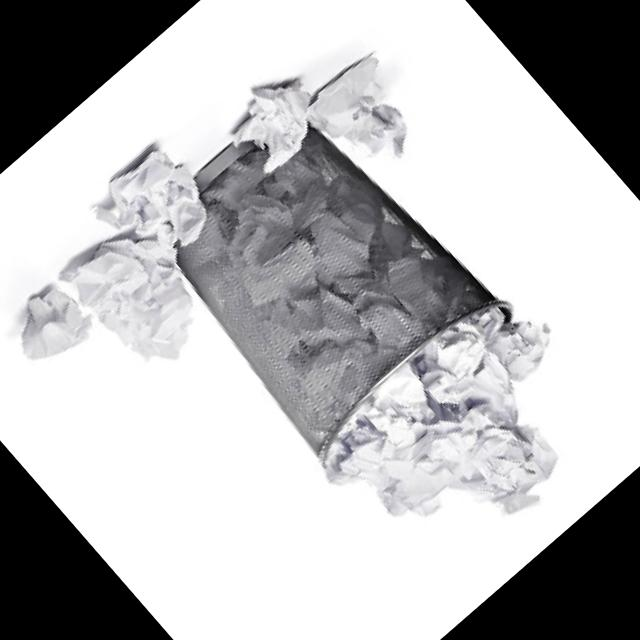KertasBekas: (118, 66, 632, 601), (309, 277, 634, 596), (0, 137, 278, 435)
